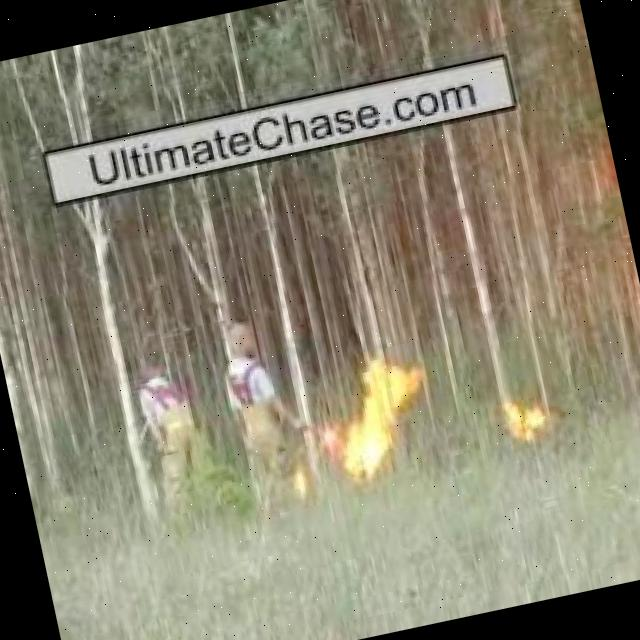fire: (330, 356, 440, 484), (501, 398, 555, 446)
